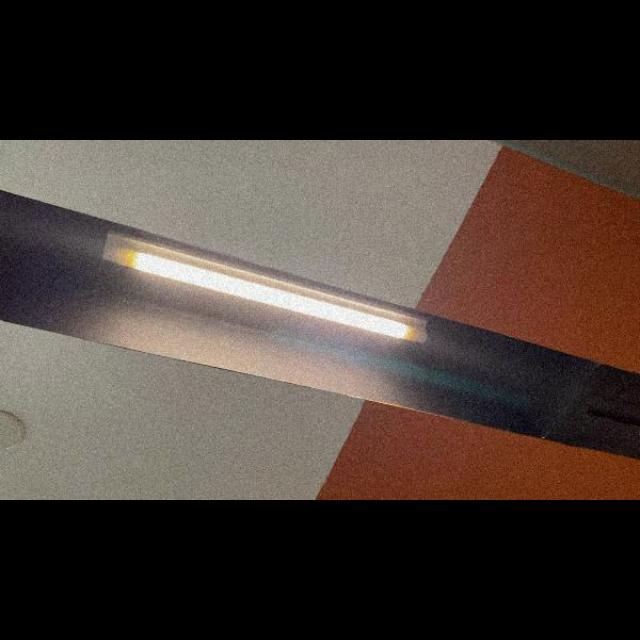Straight-Tube-Fluorescent-Lamp: (91, 216, 441, 360)
